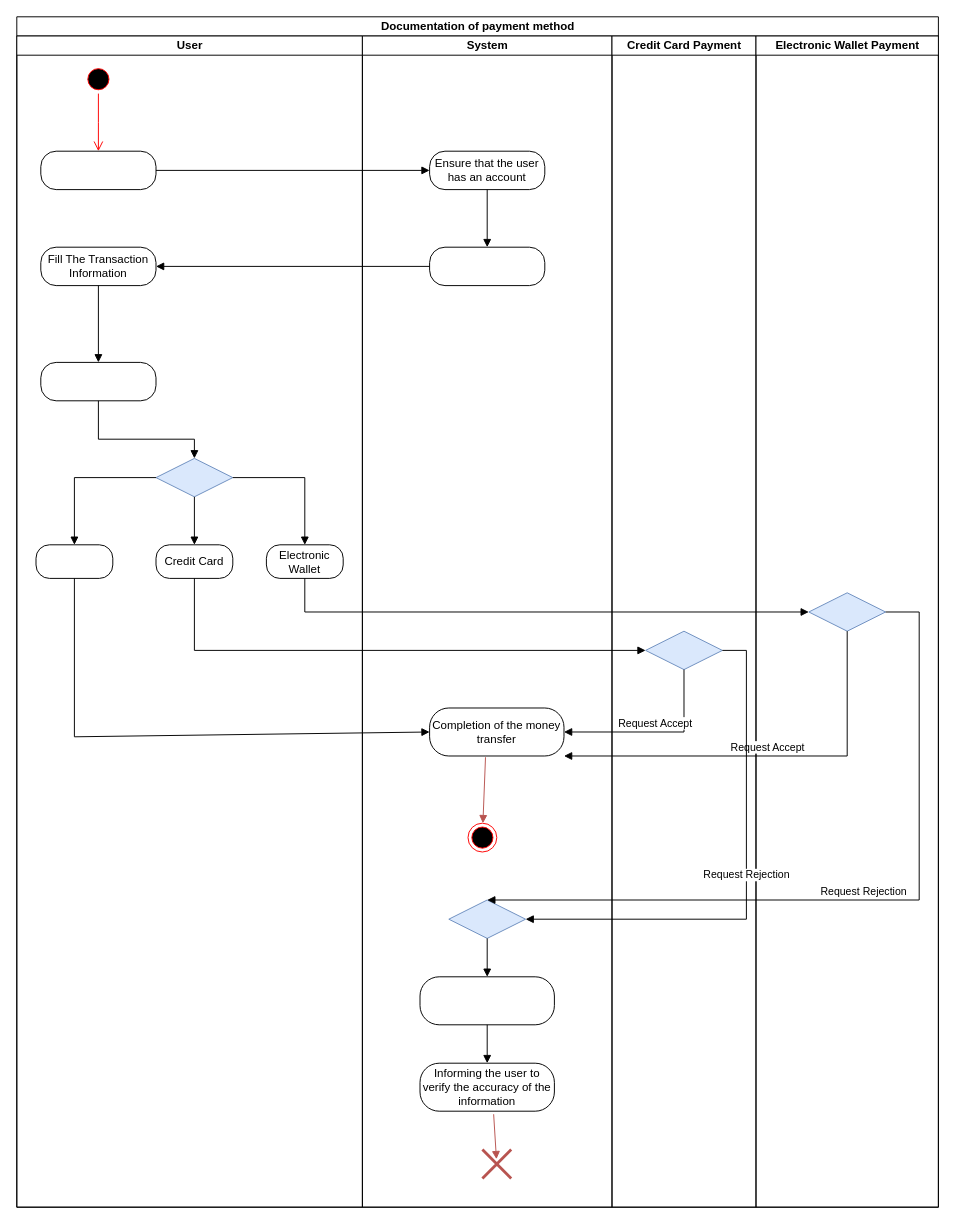
The diagram is 955 pixels wide and 1224 high, and some of its shapes have lost their labels. The shapes that lost their labels are listed below. From the top down, each one's centre as x and y in pixels, then its label:
[98,170]: Add payment System
[487,266]: Create a New Transaction
[98,381]: Choose a payment method
[74,561]: cash
[486,1000]: Failure to complete the financial transfer
